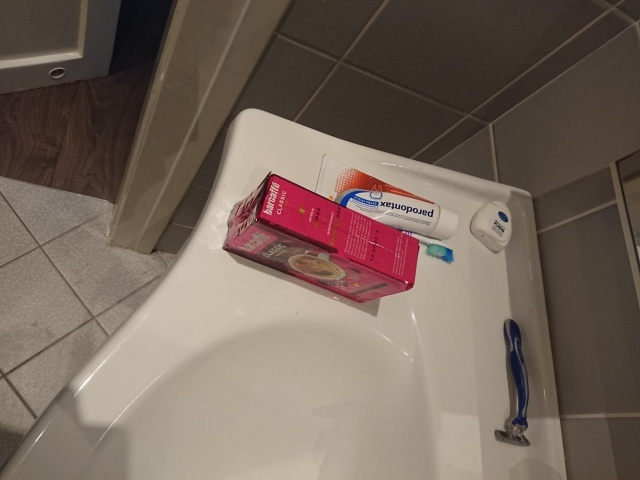Barcaffe Classic Original 225g: (219, 169, 422, 306)
